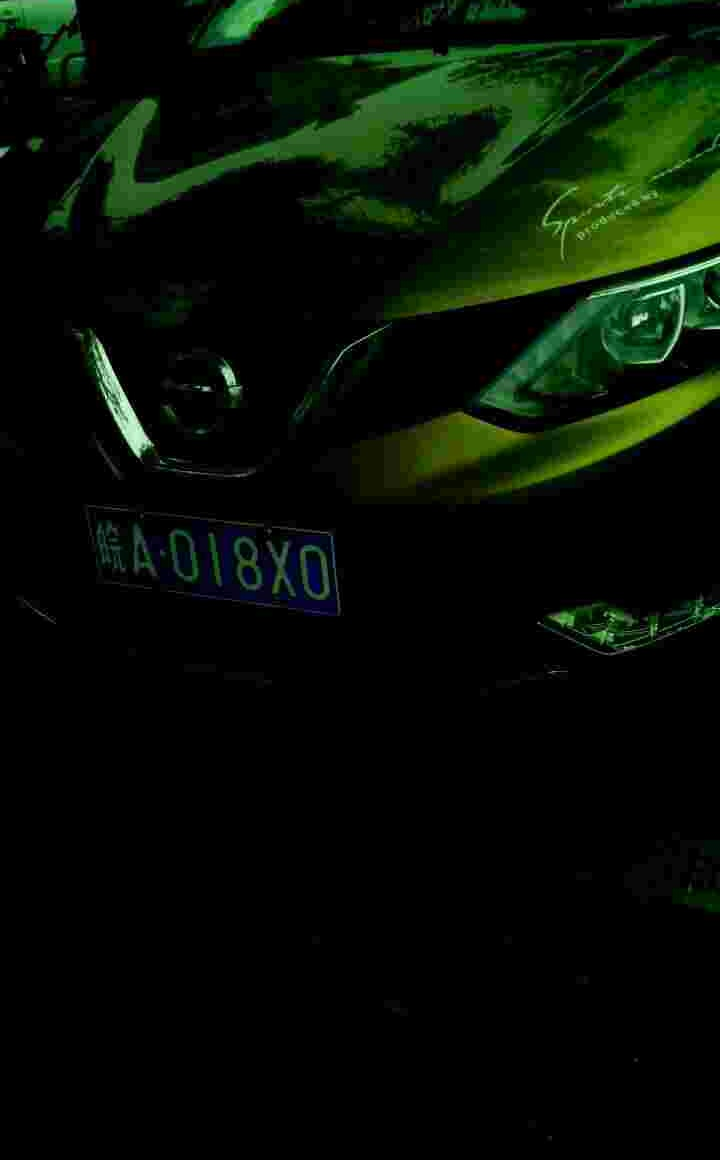plate: (96, 497, 334, 622)
